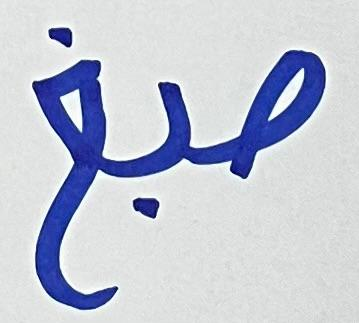character: (14, 13, 122, 317), (203, 40, 335, 181), (125, 75, 200, 221)
